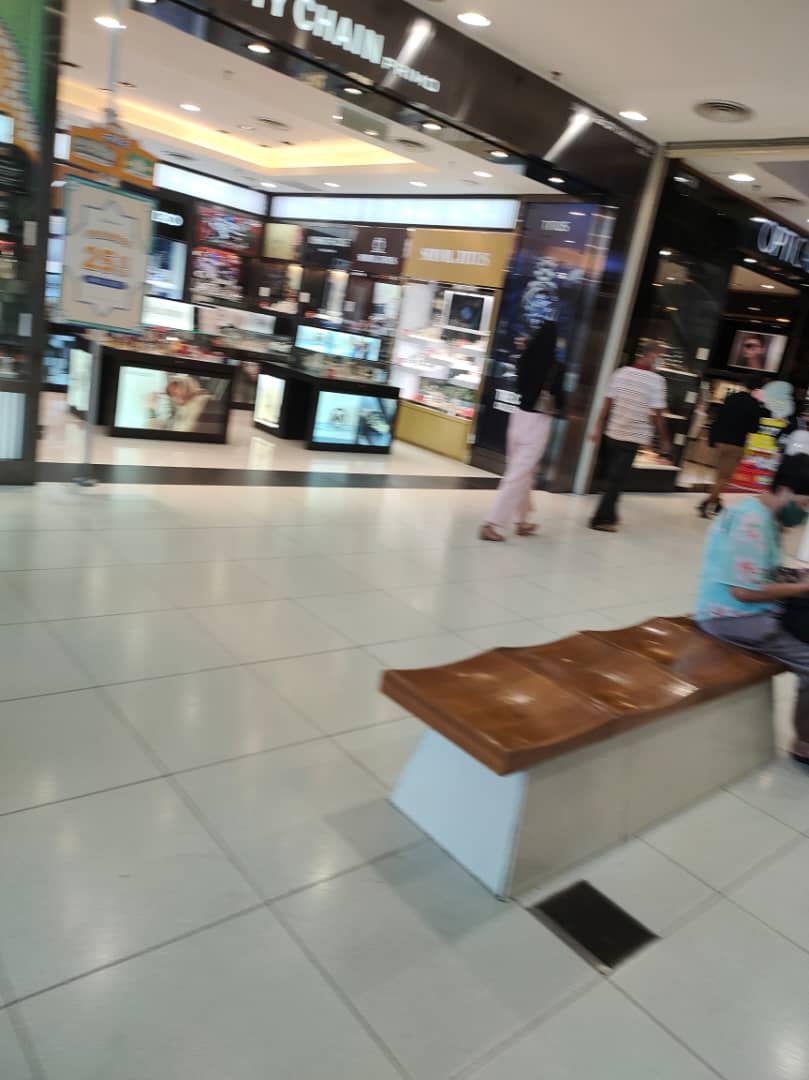sit: (668, 461, 809, 786)
